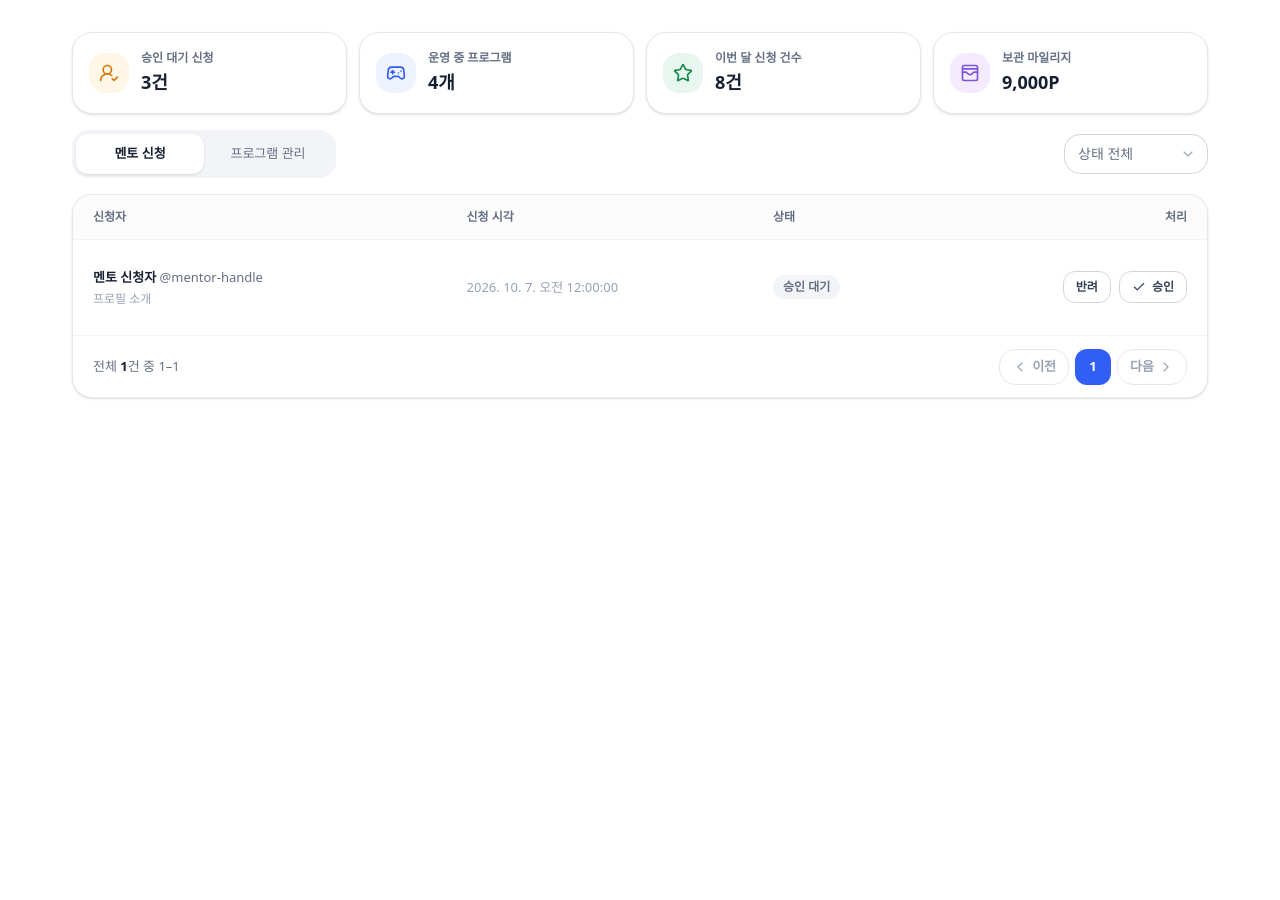
Test: AdminMentoringManagement › requires a hide reason and preserves ACTIVE separately when the program becomes hidden
Expected: the text "@mentor-handle" is shown, [160,268,263,286]
Click the tab "프로그램 관리": (268, 154) [204,134,332,174]
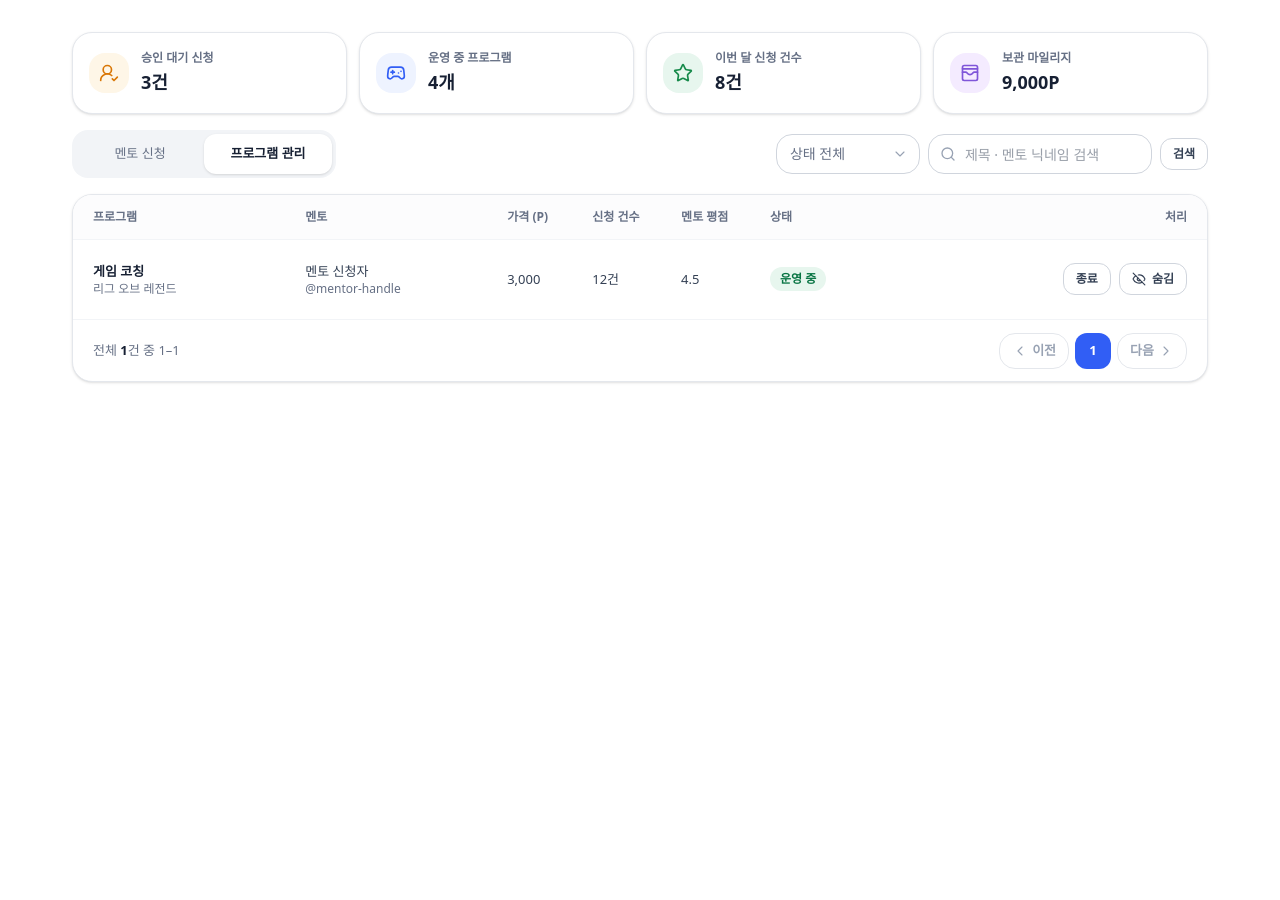
Click the button "숨김": (1153, 279) [1119,263,1187,295]
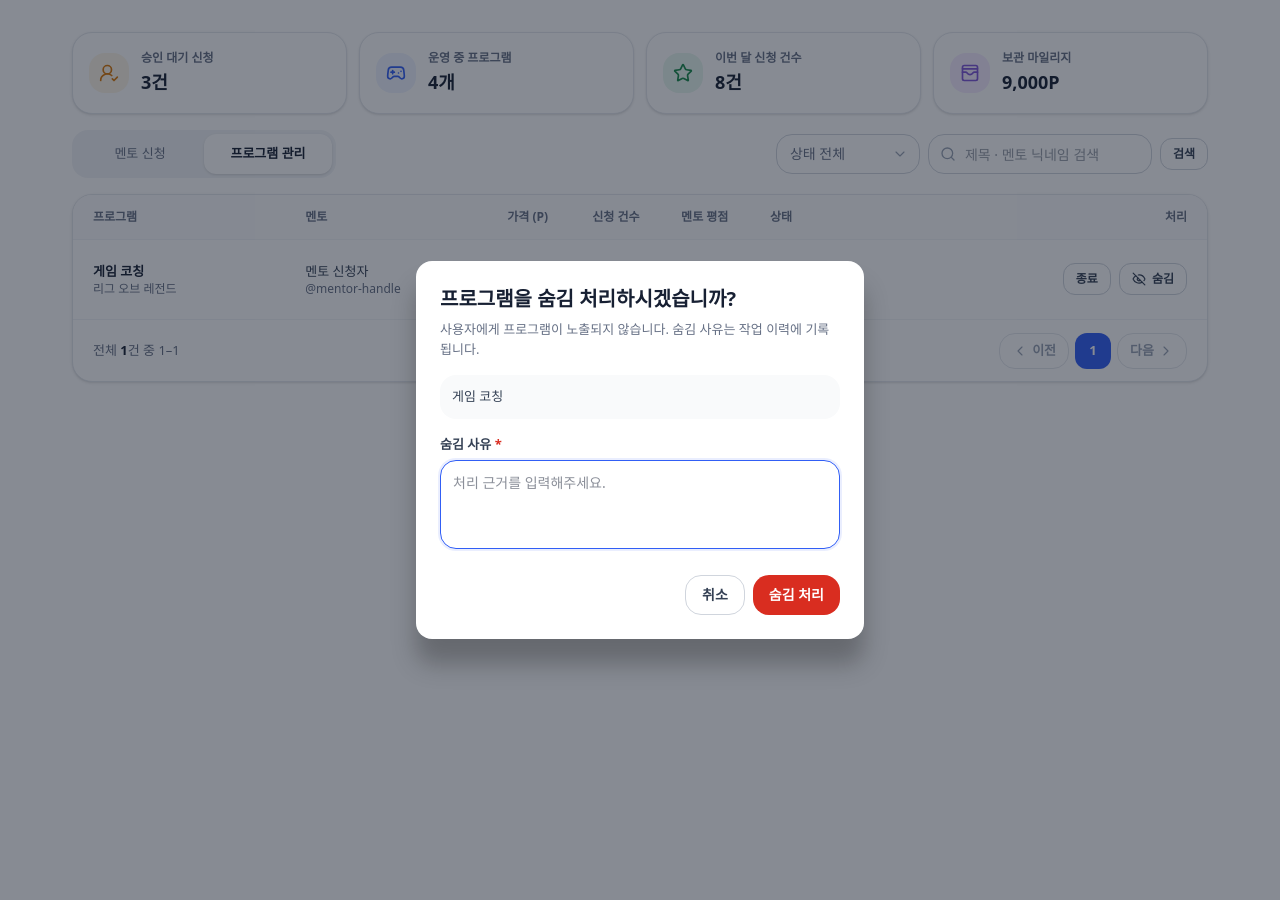
Click the button "숨김 처리": (796, 595) [753,575,840,615]
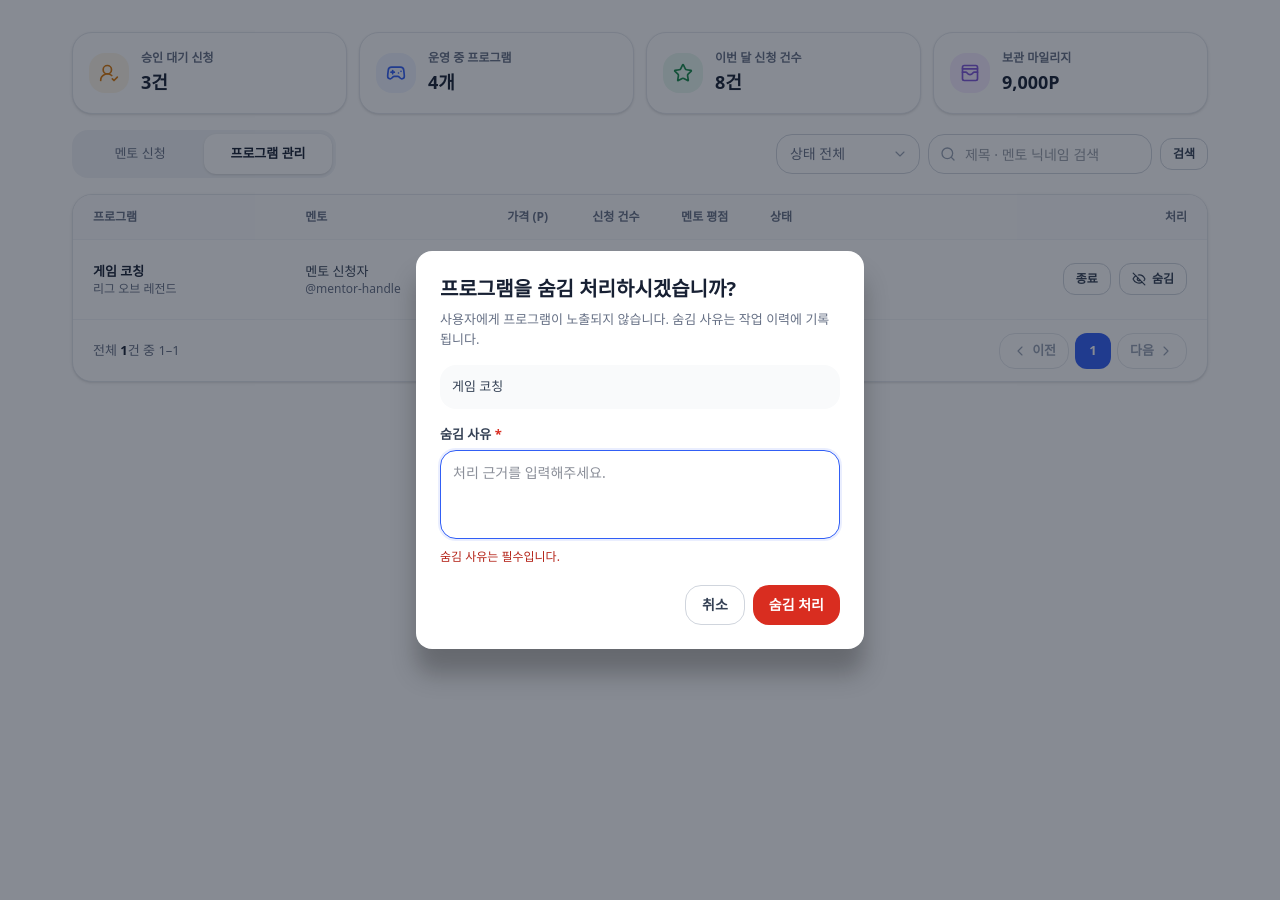
Expected: the message shows "숨김 사유는 필수", [440,548,560,565]
In the text box: (640, 494) [440,450,840,539], type " 운영 정책 위반 "
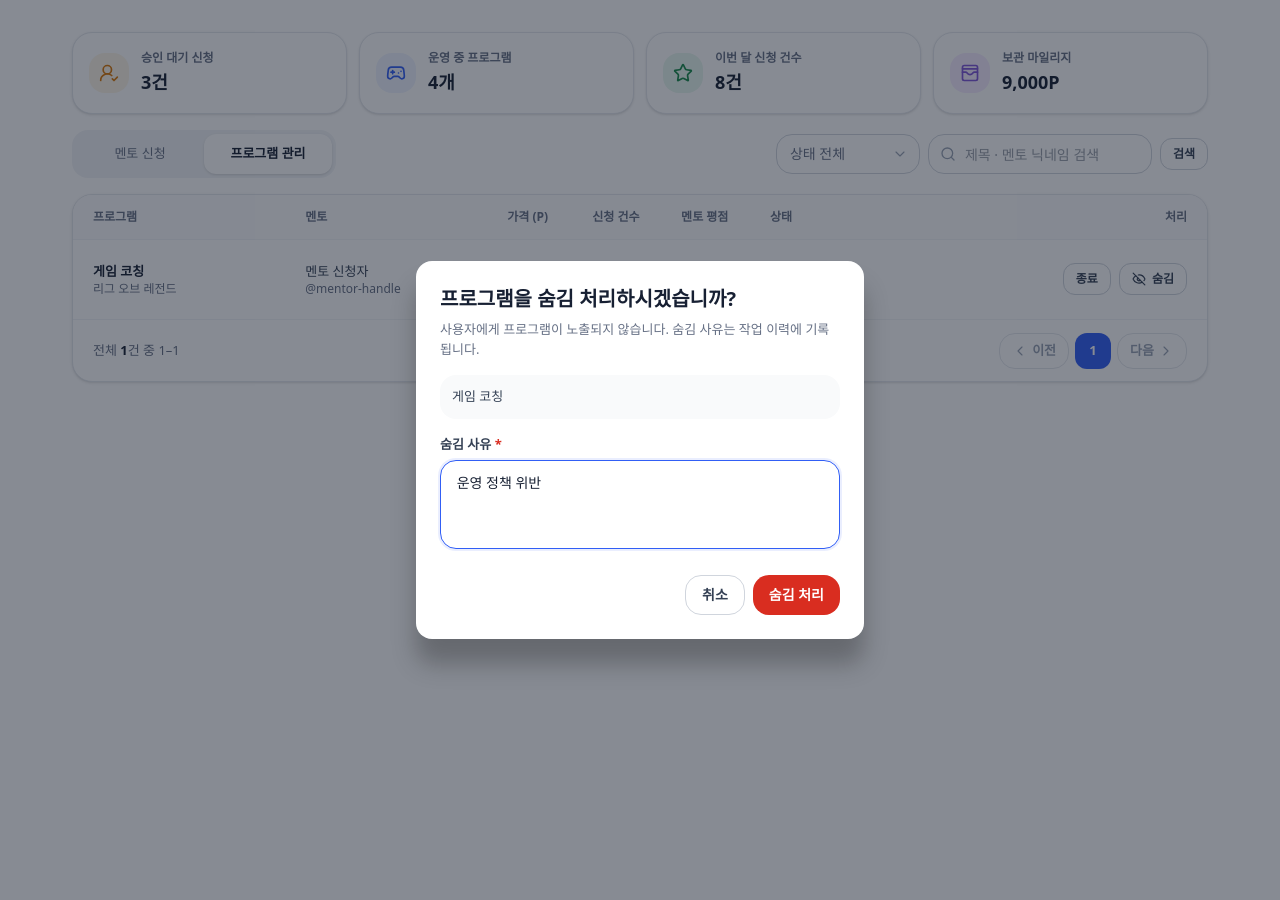
Click the button "숨김 처리": (796, 595) [753,575,840,615]
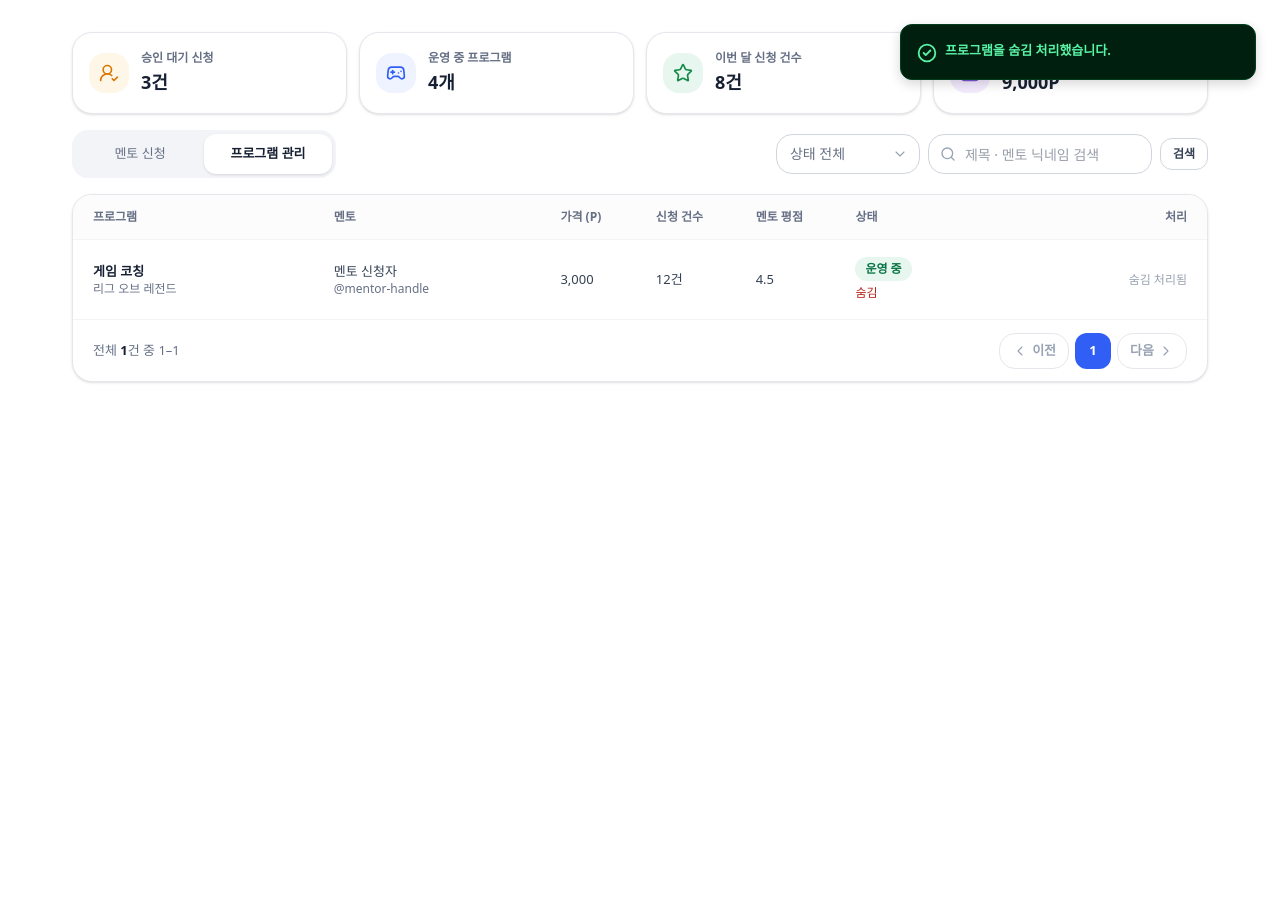
Expected: the text "운영 중" is shown, [855,257,912,281]
Expected: the text "숨김 처리됨" is shown, [1129,270,1187,288]
Expected: the button "종료" is gone
